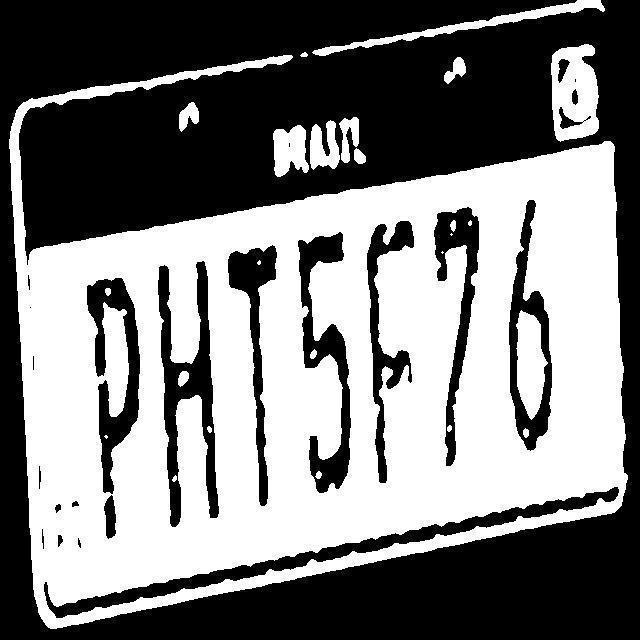5: (290, 217, 364, 496)
6: (503, 201, 570, 449)
7: (431, 202, 498, 476)
f: (360, 213, 428, 487)
h: (154, 245, 236, 528)
p: (83, 269, 156, 541)
t: (223, 234, 291, 514)
